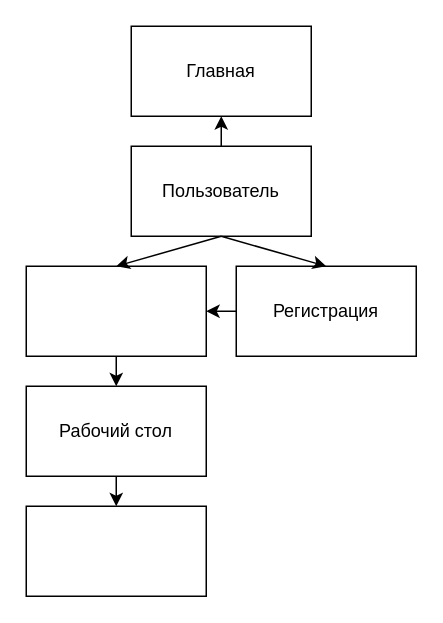
This 443x623 diagram has some shape labels left out. The shapes that lost their labels are listed below. From the top down, each one's centre as x and y in pixels, then its label:
At point (115, 310): "Авторизация".
At point (115, 550): "Профиль".
